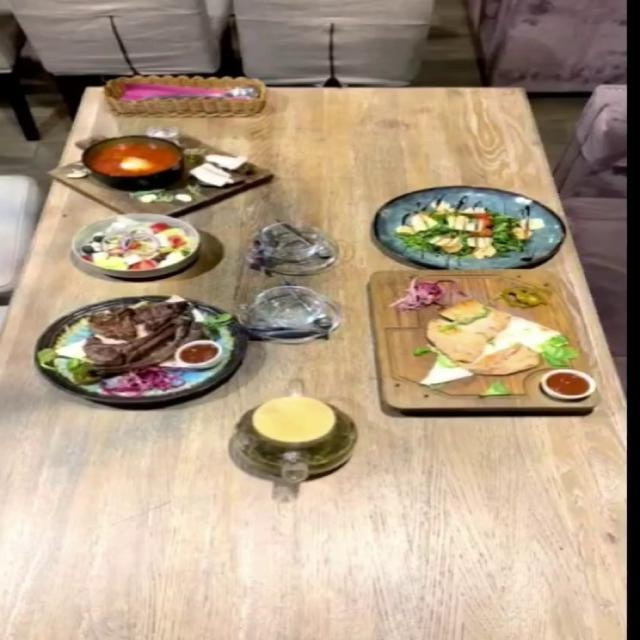meat: (355, 268, 607, 412), (33, 295, 251, 404)
salad: (375, 185, 569, 268), (68, 212, 200, 277)
soup: (67, 132, 252, 205)
tea: (231, 397, 360, 482)
